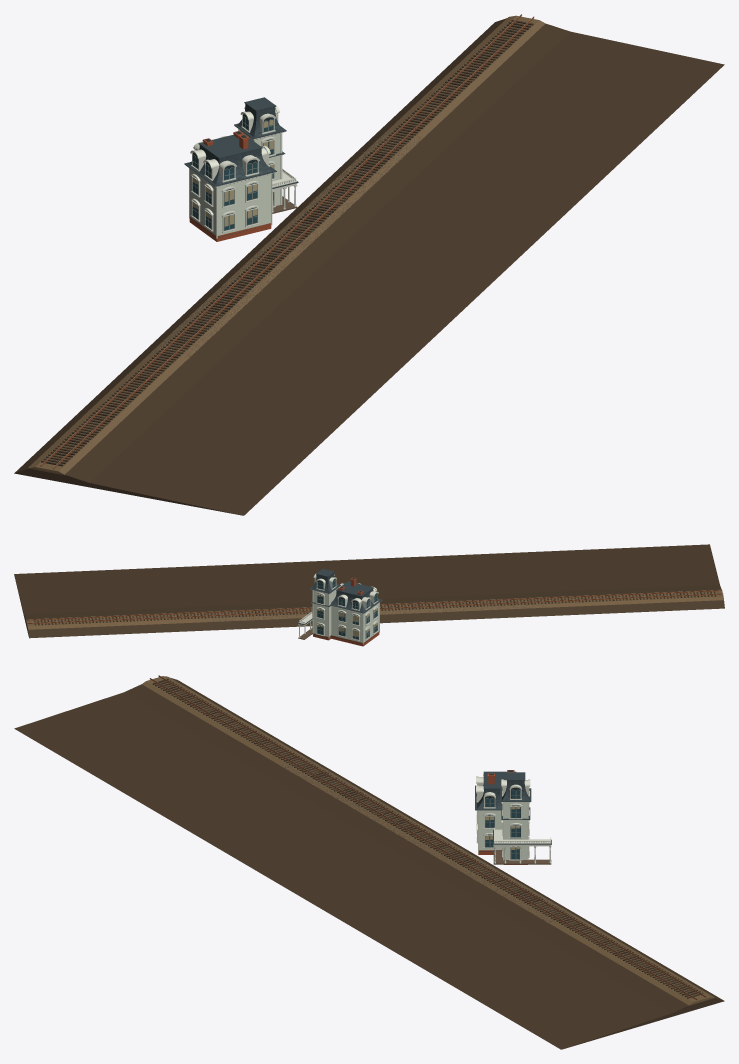
The model's file is railroad-ours-gpt-6-2-astra.glb.
The picture shows the model from 3 angles, top to bottom: view 1: azimuth 30°, elevation 25°; view 2: azimuth 150°, elevation 25°; view 3: azimuth 270°, elevation 25°; orthographic projection. The views are drawn at different scales.
Visible parts, largest first — view 1: Railroad formation | graded earth, Ballast shoulder, Oak sleepers • 635 mm pitch, Angular broken-stone bed, Residence bevel-edged weatherboards, Rolled steel rail | standard gauge, Rolled steel rail | standard gauge.001, Residence hand-laid slate courses, Residence roll cap; view 2: Railroad formation | graded earth, Ballast shoulder, Oak sleepers • 635 mm pitch, Angular broken-stone bed, Rolled steel rail | standard gauge, Rolled steel rail | standard gauge.001, Residence bevel-edged weatherboards, Belvedere bevel-edged weatherboards, Residence hand-laid slate courses, Residence roll cap, Tie plates, Belvedere hand-laid slate courses (+1 smaller); view 3: Railroad formation | graded earth, Ballast shoulder, Oak sleepers • 635 mm pitch, Angular broken-stone bed, Rolled steel rail | standard gauge.001, Rolled steel rail | standard gauge, Belvedere bevel-edged weatherboards.
Boxes of the visible parts, x1=… form: Railroad formation | graded earth: x1=14, y1=18, x2=724, y2=515; Ballast shoulder: x1=28, y1=15, x2=545, y2=475; Oak sleepers • 635 mm pitch: x1=41, y1=19, x2=533, y2=466; Angular broken-stone bed: x1=151, y1=130, x2=422, y2=359; Residence bevel-edged weatherboards: x1=190, y1=169, x2=270, y2=235; Rolled steel rail | standard gauge: x1=53, y1=16, x2=534, y2=469; Rolled steel rail | standard gauge.001: x1=40, y1=14, x2=521, y2=466; Residence hand-laid slate courses: x1=187, y1=145, x2=273, y2=184; Residence roll cap: x1=198, y1=134, x2=262, y2=158; Railroad formation | graded earth: x1=14, y1=544, x2=724, y2=638; Ballast shoulder: x1=25, y1=589, x2=723, y2=629; Oak sleepers • 635 mm pitch: x1=34, y1=590, x2=716, y2=625; Angular broken-stone bed: x1=203, y1=597, x2=547, y2=621; Rolled steel rail | standard gauge: x1=26, y1=590, x2=722, y2=620; Rolled steel rail | standard gauge.001: x1=27, y1=593, x2=723, y2=623; Residence bevel-edged weatherboards: x1=331, y1=603, x2=379, y2=642; Belvedere bevel-edged weatherboards: x1=313, y1=588, x2=337, y2=636; Residence hand-laid slate courses: x1=331, y1=589, x2=380, y2=612; Residence roll cap: x1=336, y1=581, x2=373, y2=596; Tie plates: x1=34, y1=591, x2=715, y2=623; Belvedere hand-laid slate courses: x1=311, y1=573, x2=338, y2=592; Railroad formation | graded earth: x1=14, y1=678, x2=724, y2=1049; Ballast shoulder: x1=142, y1=676, x2=714, y2=1005; Oak sleepers • 635 mm pitch: x1=152, y1=679, x2=703, y2=998; Angular broken-stone bed: x1=280, y1=757, x2=574, y2=923; Rolled steel rail | standard gauge.001: x1=158, y1=675, x2=705, y2=997; Rolled steel rail | standard gauge: x1=149, y1=678, x2=697, y2=999; Belvedere bevel-edged weatherboards: x1=504, y1=803, x2=527, y2=859.
Size of what is drawn, in the model's own units: 122 by 12.81 by 98.68.
